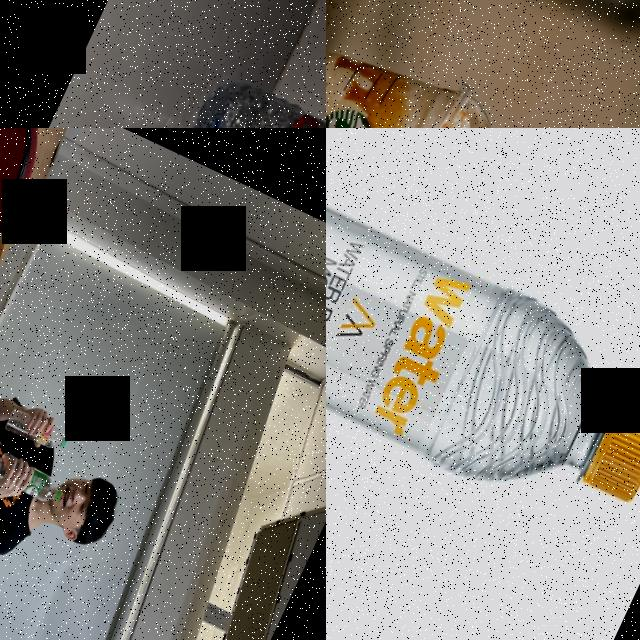bottle: (326, 136, 640, 548), (160, 59, 326, 128), (1, 403, 74, 457), (0, 453, 66, 511)
cup: (326, 10, 521, 128)
